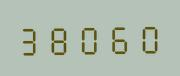eight: (47, 20, 75, 56)
six: (105, 19, 133, 55)
three: (18, 21, 46, 56)
zero: (76, 20, 104, 55), (134, 19, 162, 54)
